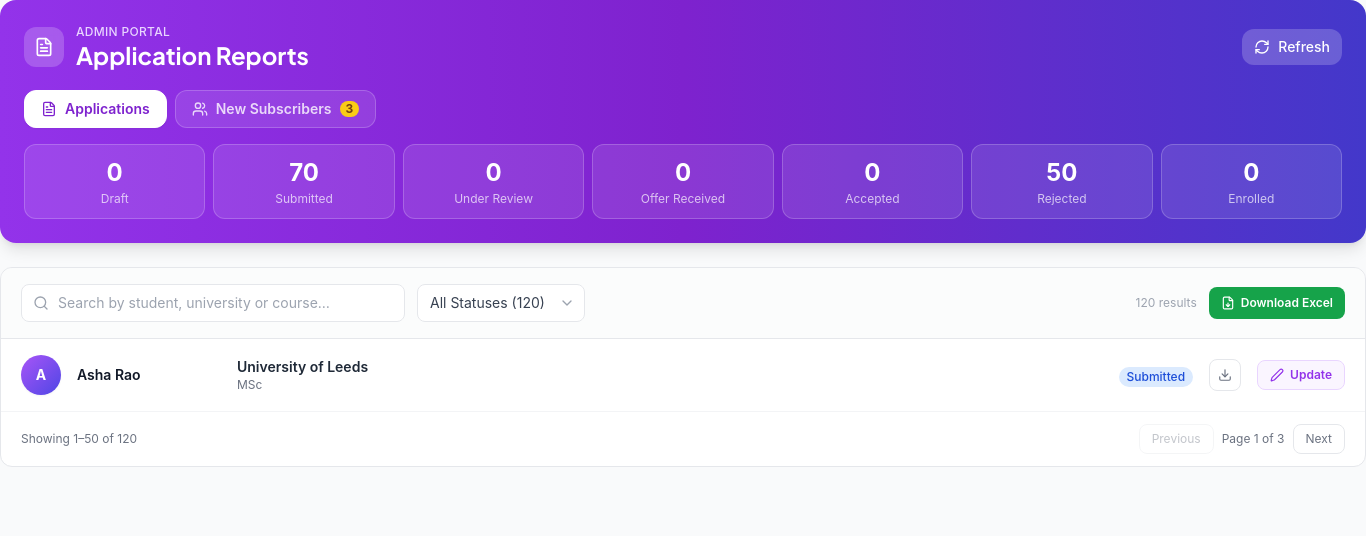
Test case: AdminApplications › shows unread subscribers on the tab, and opening it marks them read
The width and height of the screenshot is (1366, 536).
Expected: the link "Asha Rao" is shown, [77,366,140,383]
Expected: the text titled "3 new since you last looked" is shown, [340,101,359,117]
Click the button "New Subscribers 3" at (276, 109), box [175,90,376,128]
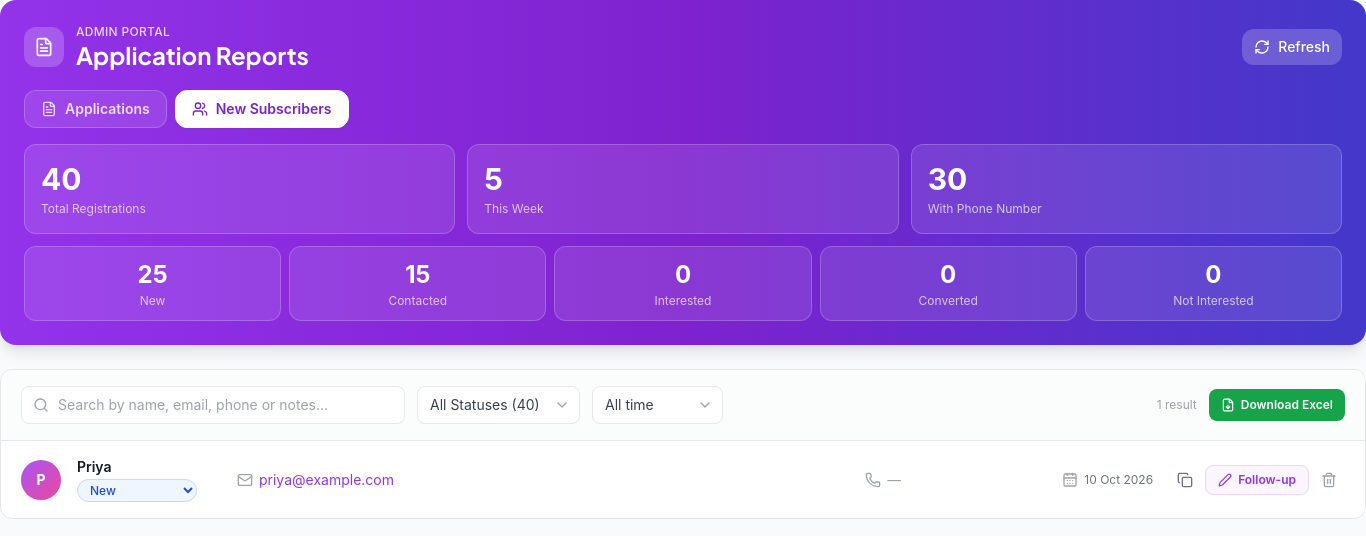
Expected: the text "Priya" is shown, [77,458,112,475]
Expected: the text "40" is shown, [41,161,82,197]
